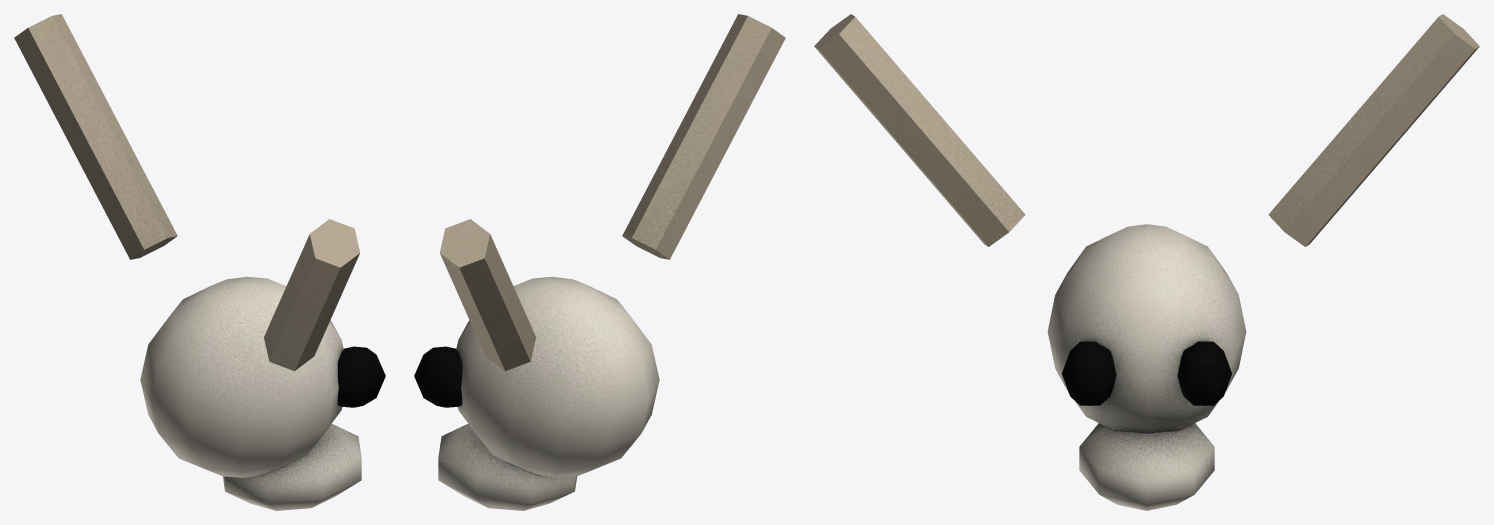
The model's file is skull.glb.
3 views of the same model, side by side, from view 1: azimuth 30°, elevation 25°; view 2: azimuth 150°, elevation 25°; view 3: azimuth 270°, elevation 25° (orthographic). The views are drawn at different scales.
Parts seen in each view (by area): view 1: cranium; view 2: cranium; view 3: cranium.
Part boxes in pixels (bbox=[...]): cranium: bbox=[14, 14, 385, 510]; cranium: bbox=[414, 14, 785, 510]; cranium: bbox=[814, 14, 1479, 510].
Bounding box in the file's own units: 0.1771 × 0.3332 × 0.4691.
Materials: 1 (1 with a texture image).
